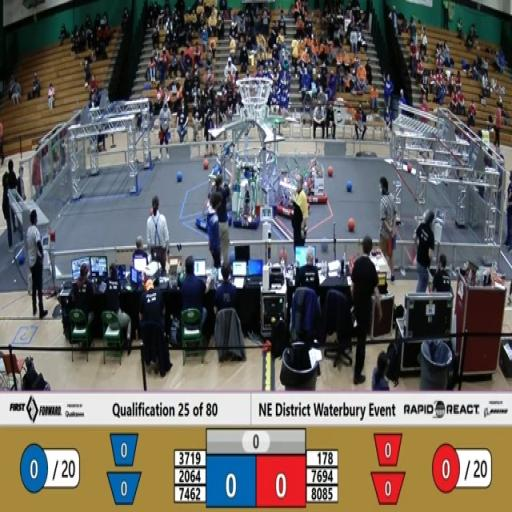robot: (273, 154, 311, 224), (202, 140, 234, 211), (196, 163, 223, 240), (234, 158, 261, 233), (297, 153, 329, 203)
